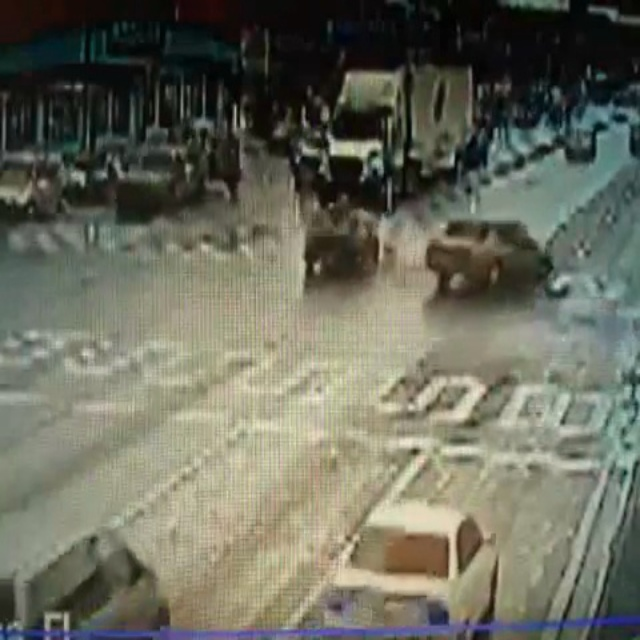acc: (293, 193, 553, 311)
